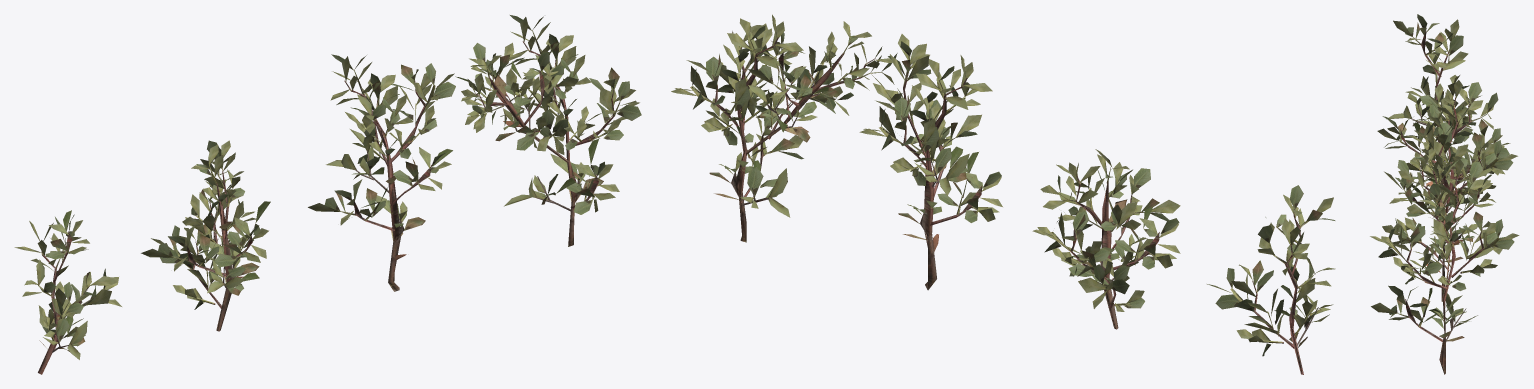
File: shrub_04.glb
The picture shows the model from 3 angles, left to right: view 1: azimuth 30°, elevation 25°; view 2: azimuth 150°, elevation 25°; view 3: azimuth 270°, elevation 25°; orthographic projection. The views are drawn at different scales.
Parts seen in each view (by area): view 1: shrub_04; view 2: shrub_04; view 3: shrub_04.
Boxes of the visible parts, bbox=[...] form: shrub_04: bbox=[14, 15, 641, 374]; shrub_04: bbox=[671, 14, 1335, 374]; shrub_04: bbox=[1370, 14, 1519, 374].
Size of the model in its own units: 0.5832 by 0.2212 by 0.1457.
1 material, 1 textured.
